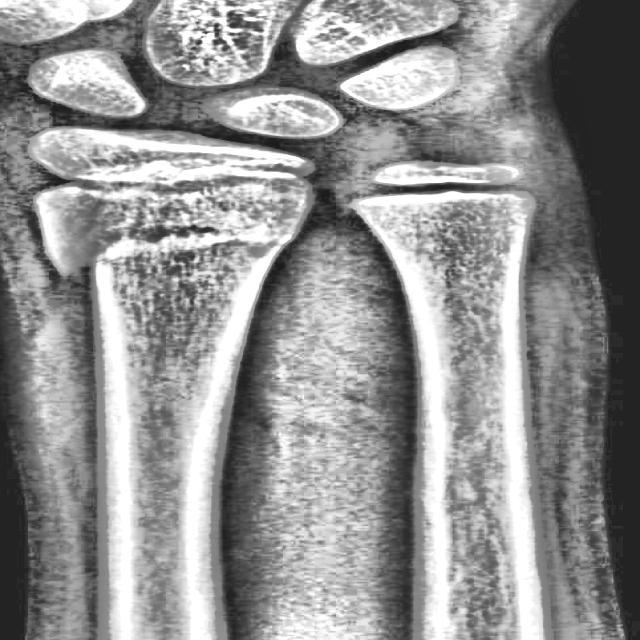fracture: (42, 216, 312, 284)
